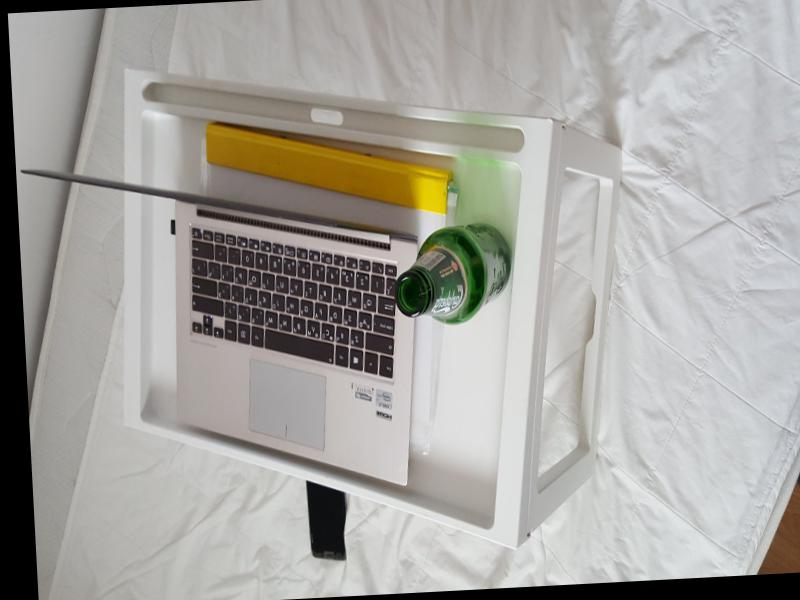Beer: (392, 221, 515, 328)
